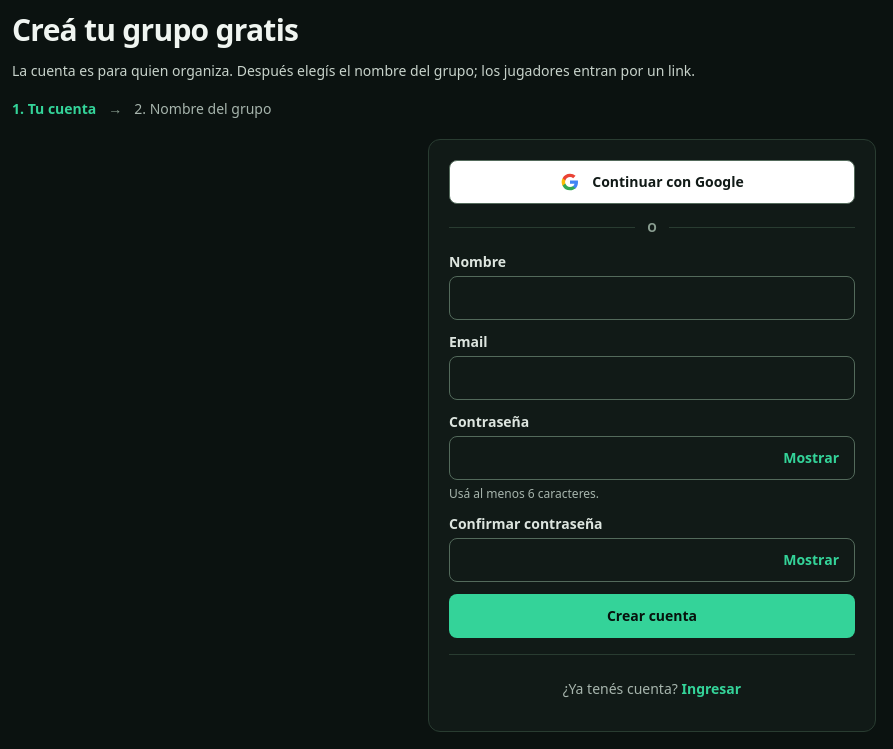
it: LoginForm › permite revisar la contraseña sin perderla ni enviar el formulario
The image size is (893, 749).
Type "clave-ejemplo" into the password field labelled "Contraseña" at (652, 458), box [449,436,855,480]
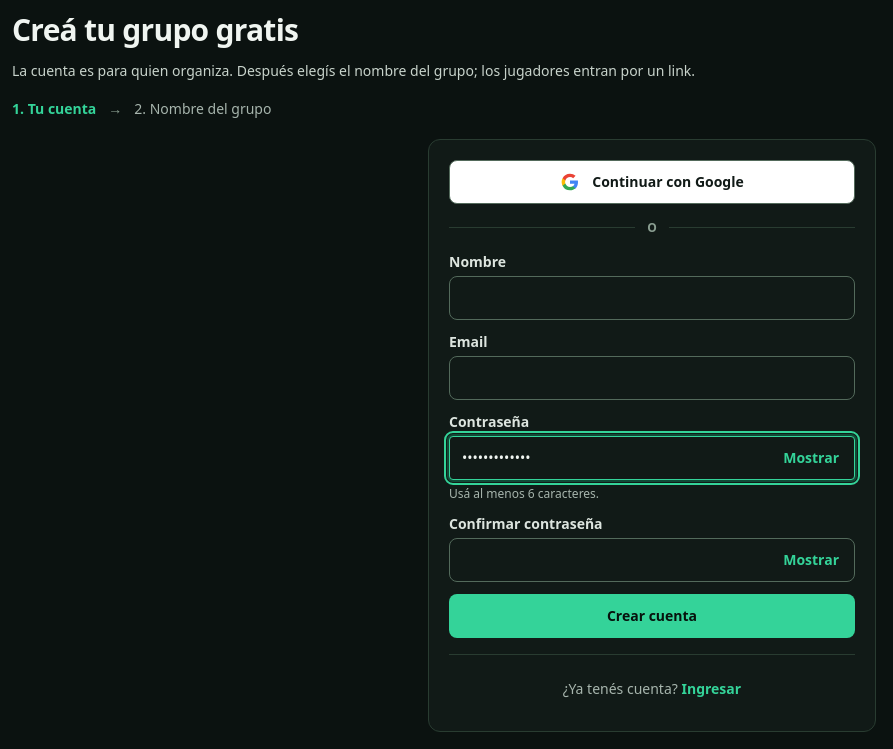
Click the button with aria-label "Mostrar contraseña" at (811, 458), box [771,436,851,480]
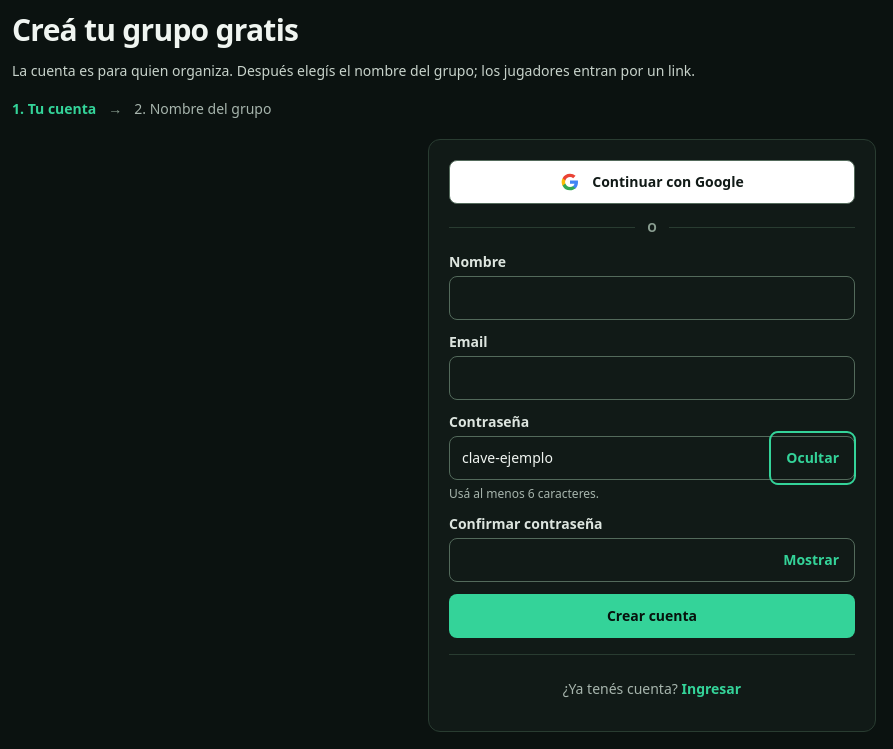
Expected: the field labelled "Contraseña" shows its text, [449,436,855,480]
Click the button with aria-label "Ocultar contraseña" at (813, 458), box [774,436,851,480]
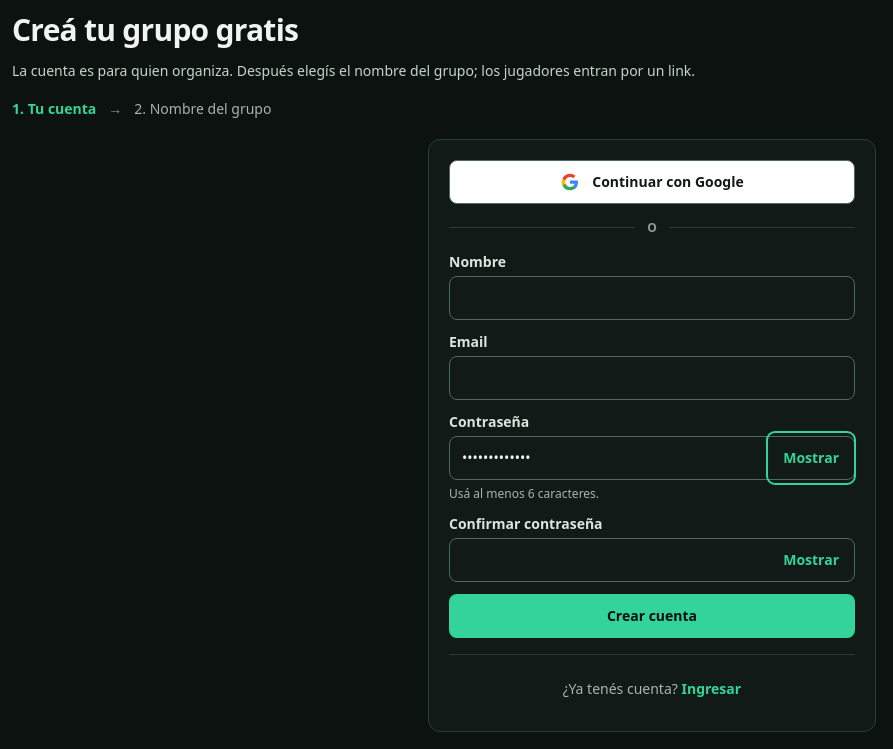
Expected: the password field labelled "Contraseña" hides its text, [449,436,855,480]
